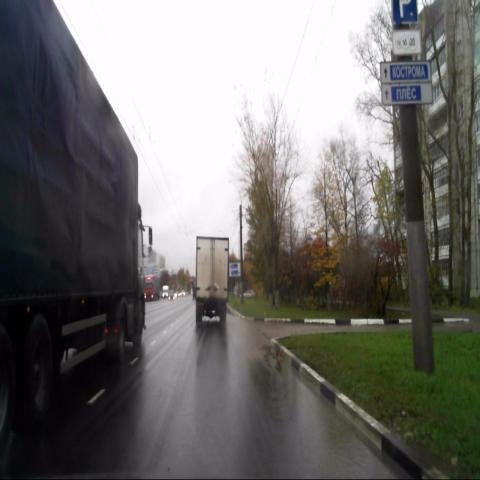8_8: (392, 29, 421, 55)
